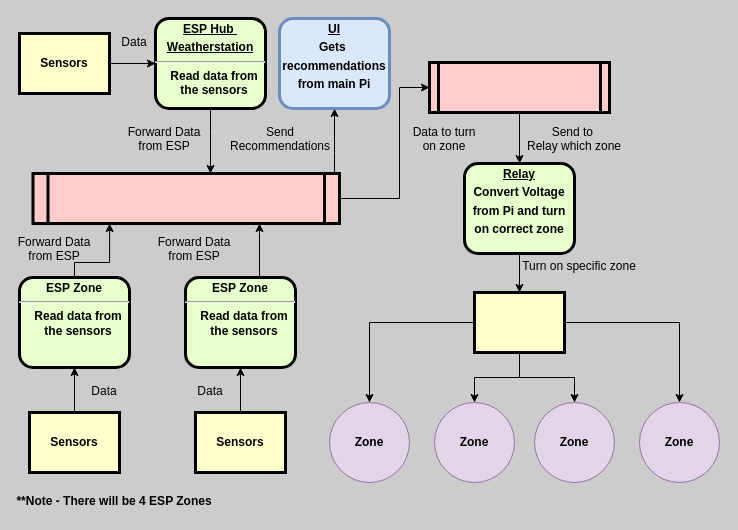
Image size: 738x530. Some labels were removed from this diagram. Each missing label, with the centre of its shape:
"Main Sprinkler Controller (Pi) - DB" goes at point (185, 198).
"Relay Controller (Pi)" goes at point (519, 87).
"Valve Box" goes at point (519, 322).
